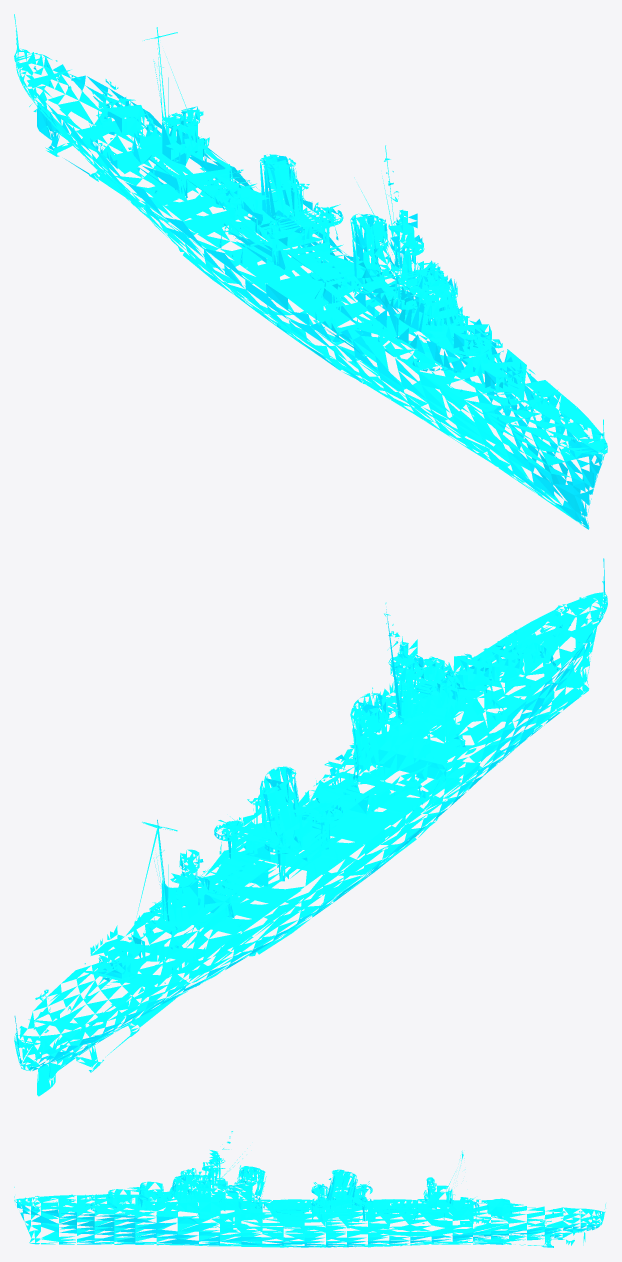
File: Adriatico.glb
3 views of the same model, one above another, from view 1: azimuth 30°, elevation 25°; view 2: azimuth 150°, elevation 25°; view 3: azimuth 270°, elevation 25° (orthographic). The views are drawn at different scales.
Size of the model in its own units: 0.983 by 2.11 by 9.36.
